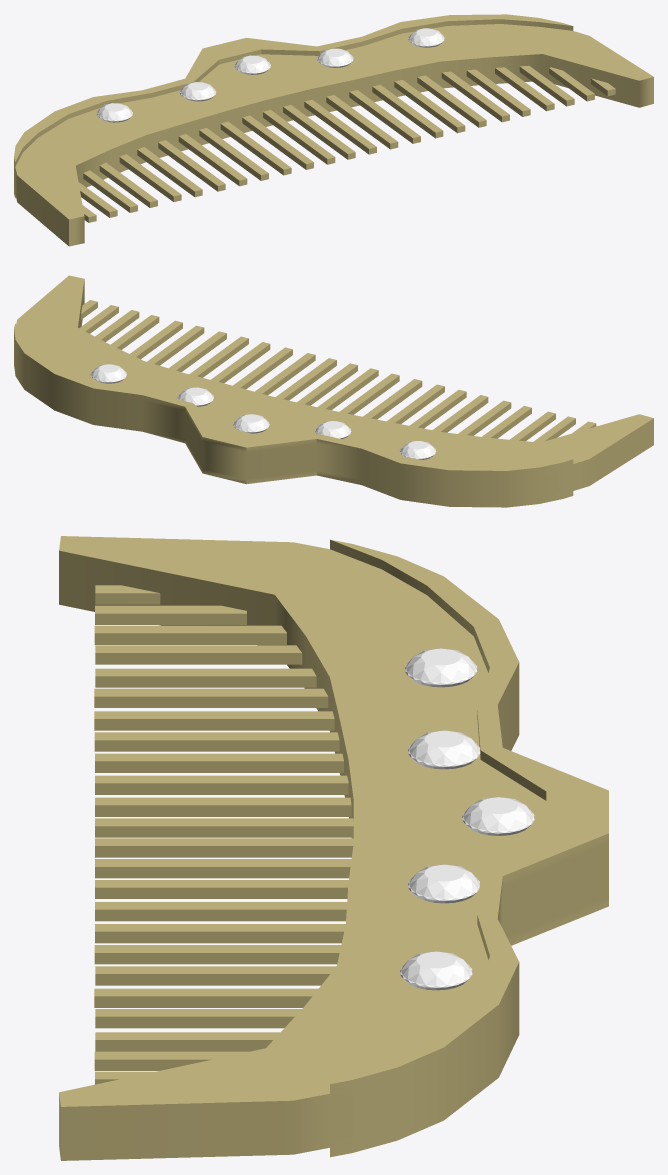
File: NC_Comb_01_DF.fbx
3 renders of one model, top to bottom at view 1: azimuth 30°, elevation 25°; view 2: azimuth 150°, elevation 25°; view 3: azimuth 270°, elevation 25°, orthographic. The views are drawn at different scales.
Parts seen in each view (by area): view 1: Comb, Rhinestones; view 2: Comb, Rhinestones; view 3: Comb, Rhinestones.
Boxes of the visible parts, x1,y1,x2,y2 form: Comb: [14, 14, 653, 246]; Rhinestones: [96, 28, 444, 122]; Comb: [14, 275, 653, 507]; Rhinestones: [90, 364, 436, 459]; Comb: [59, 536, 608, 1160]; Rhinestones: [400, 648, 534, 990].
Size of the model in its own units: 0.128 by 0.00912 by 0.0521.
